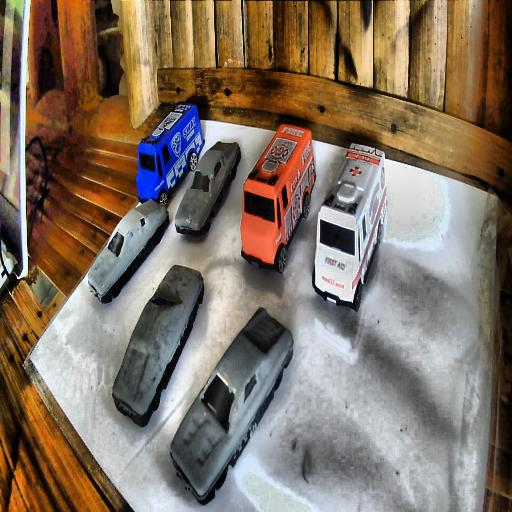ambulance: (310, 140, 386, 312)
fire_truck: (239, 124, 311, 273)
normal_car: (170, 308, 290, 503), (112, 265, 205, 427), (87, 198, 169, 306), (176, 139, 242, 239)
police car: (134, 101, 204, 207)
